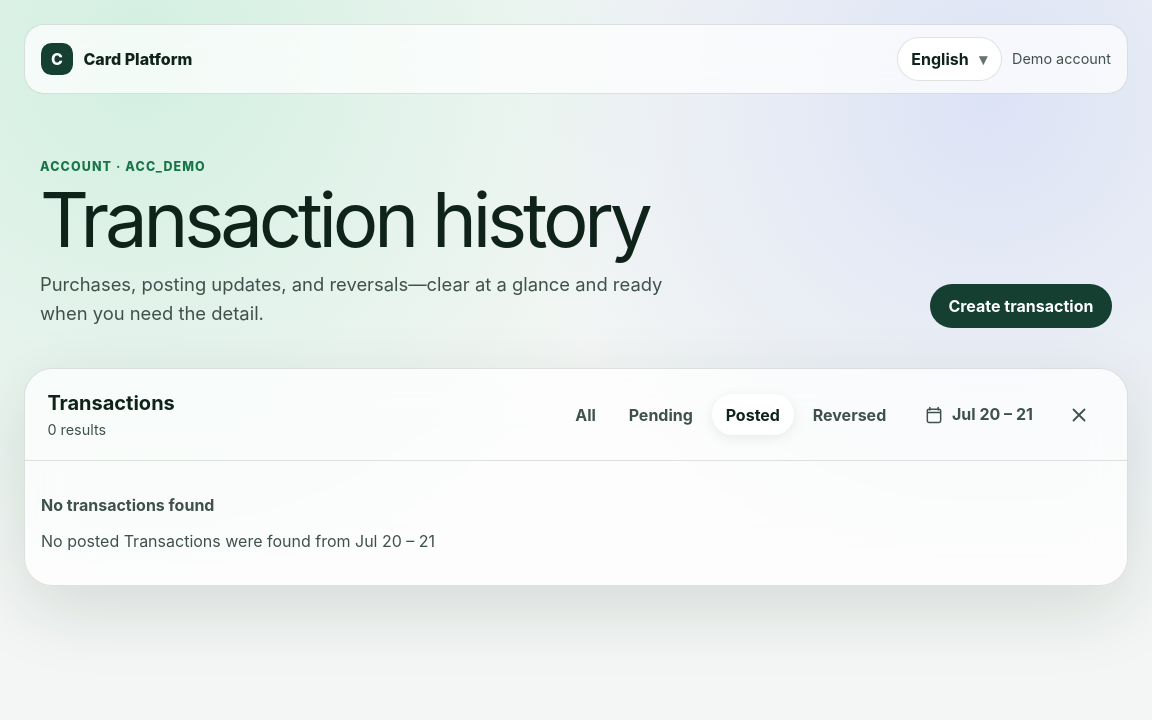
Test: App › shows localized query-aware empty states without a create prompt for searches
Expected: the text "No posted Transactions were found from Jul 20 – 21" is shown, [41,529,435,553]
Expected: the number of buttons "Create transaction" is 1, [930,284,1112,328]
Click the dropdown named "Language" at [949, 59], box [897,37,1002,81]
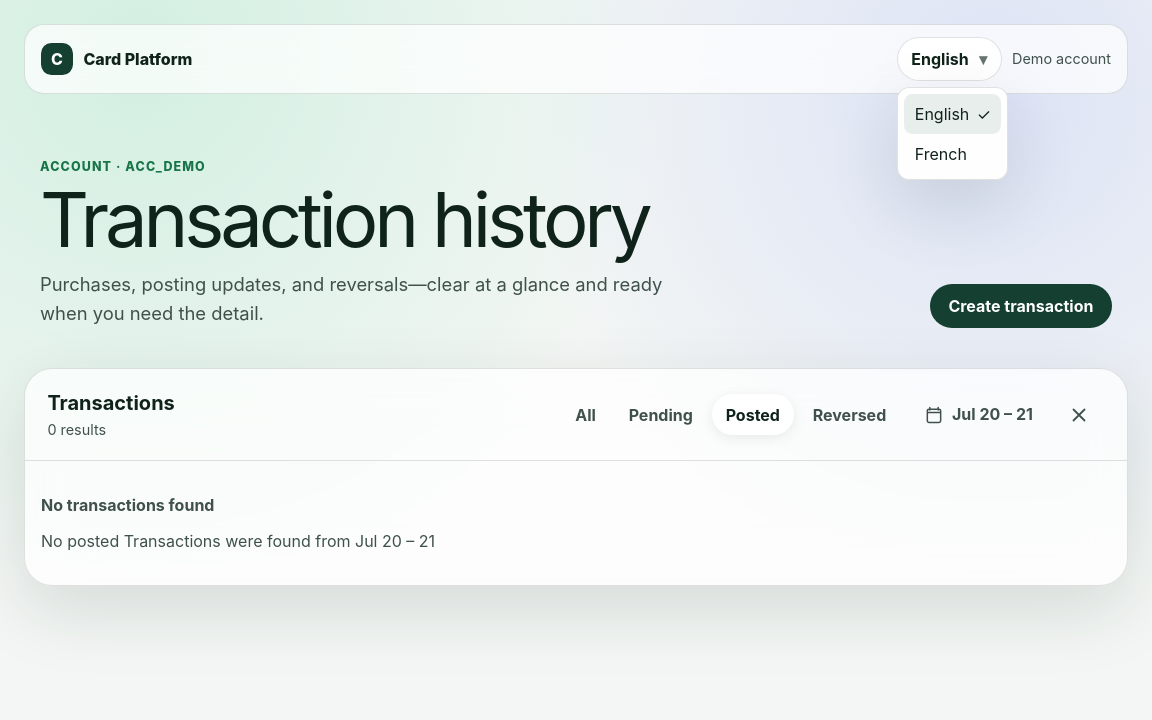
Click the option "French" at [941, 154], box [915,144,967,164]
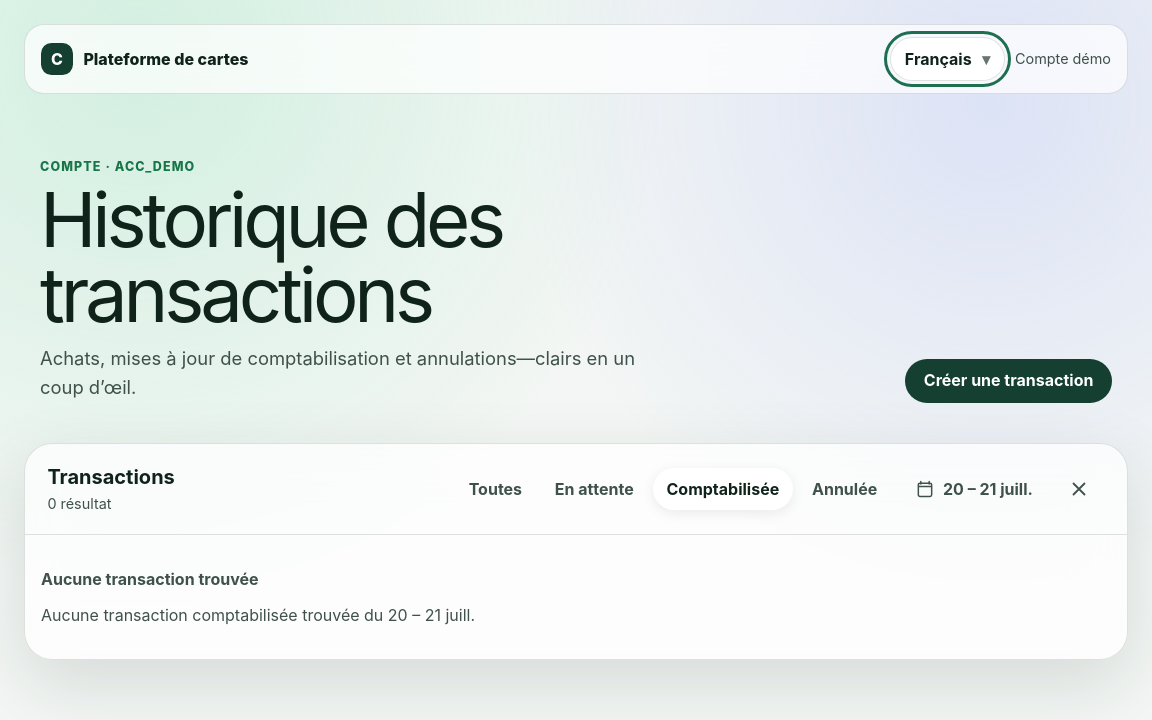
Expected: the text "Aucune transaction comptabilisée trouvée du 20 – 21 juill." is shown, [41,603,475,627]
Expected: the button "20 – 21 juill." is shown, [896,468,1051,510]
